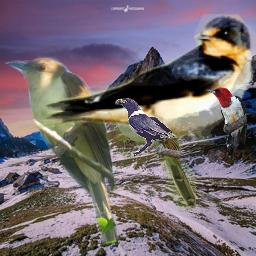Crow: (115, 98, 177, 156)
Cuckoo: (2, 55, 123, 253), (87, 92, 196, 209)
Swallow: (3, 14, 256, 145)
Woodpecker: (205, 87, 247, 153)
